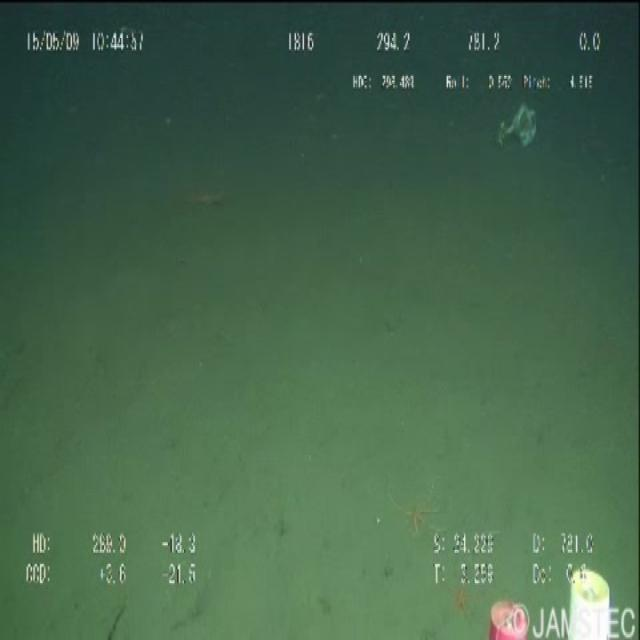Litter: (486, 92, 550, 156)
